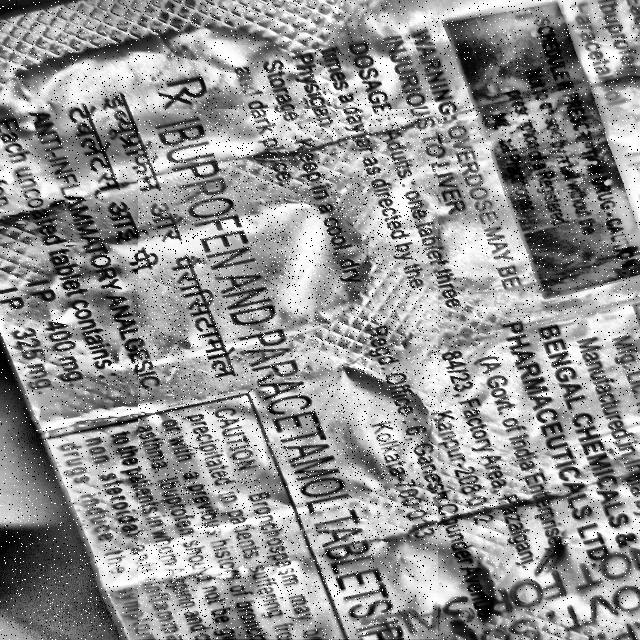IBUPROFEN AND PARACETAMOL TABLETS: (138, 109, 437, 638)
